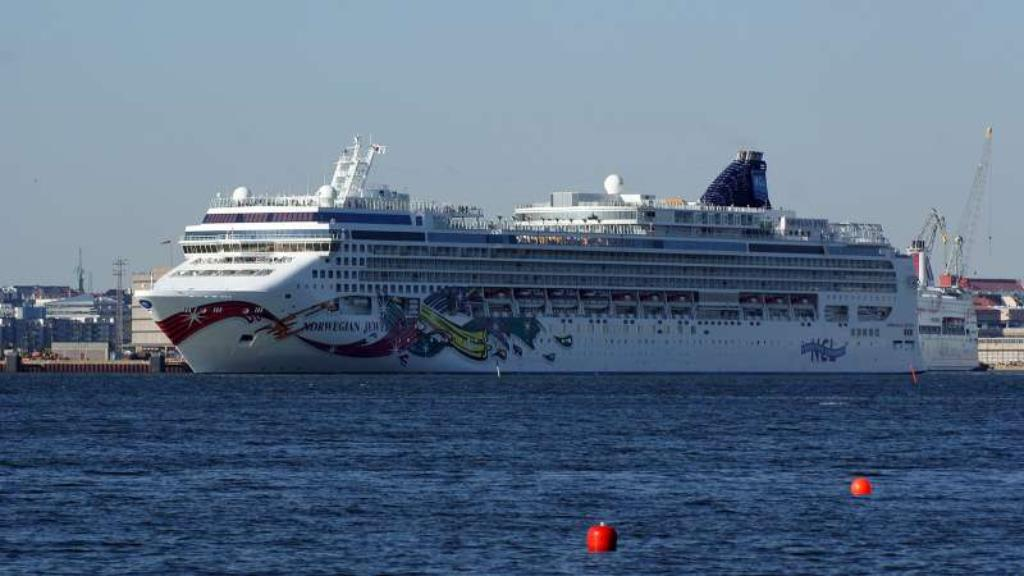PassengerShip: (129, 141, 921, 379)
